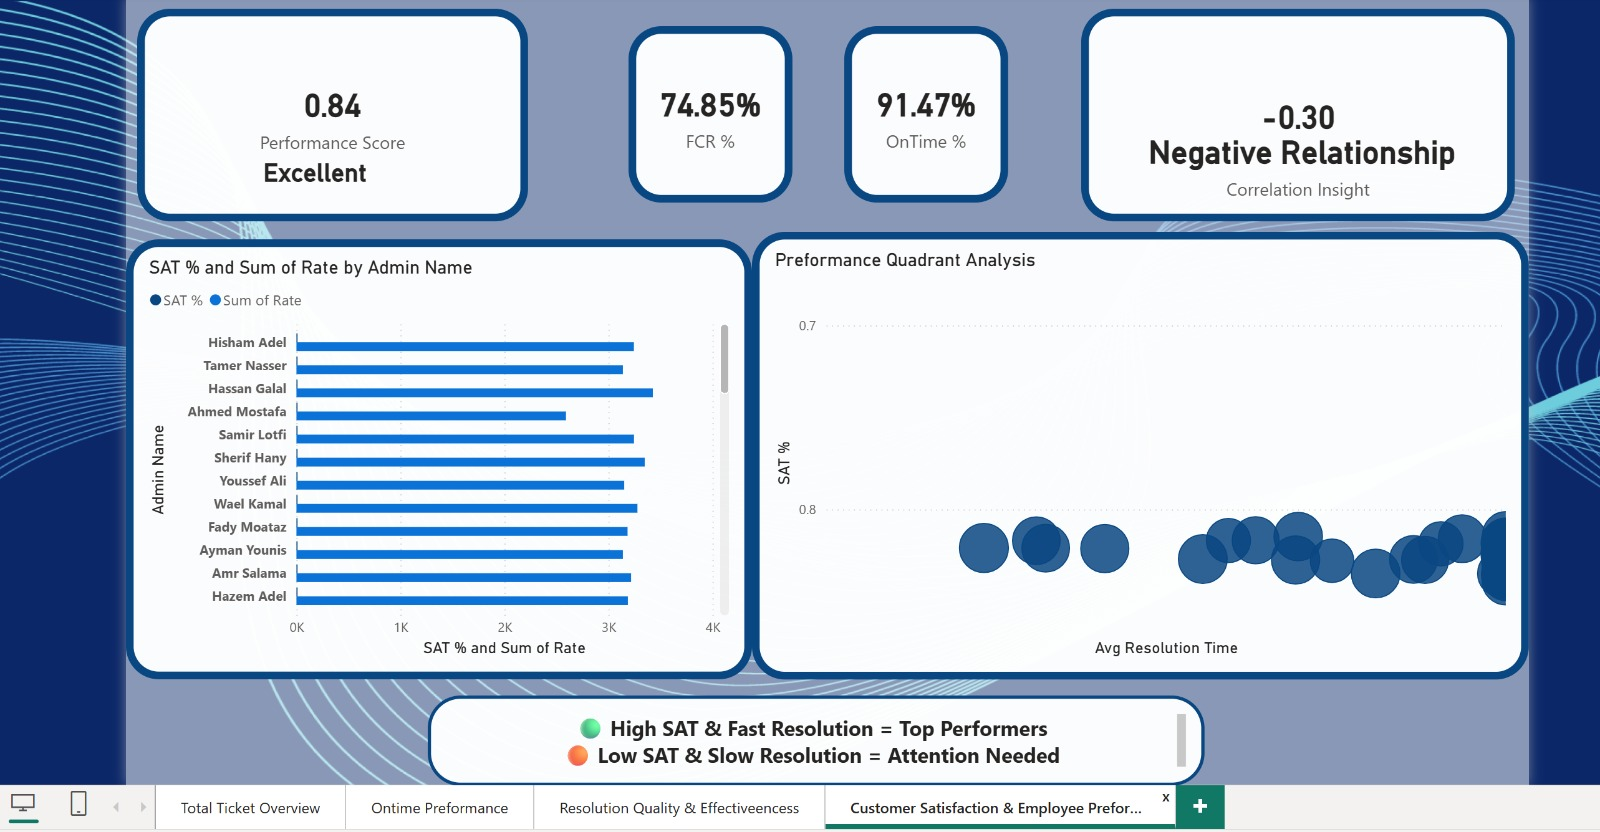

What the dashboard file says about the page in this screenshot:
{"tool":"powerbi","page":{"name":"Customer Satisfaction & Employee Preformance","canvas":[1280,720],"ordinal":3},"visuals":[{"type":"scatterChart","title":"Preformance Quadrant Analysis ","fields":{"Category":["Tickets.Admin Name"],"Size":["Tickets.Total Tickets"],"X":["Date Table.Avg Resolution Time"],"Y":["Tickets.SAT %"]},"box":[571,214.5,708.7,408.7],"z":0},{"type":"clusteredBarChart","fields":{"Category":["Tickets.Admin Name"],"Y":["Tickets.SAT %","Sum(Tickets.Rate)"]},"box":[0,221.7,571,401.4],"z":1000},{"type":"card","fields":{"Values":["Date Table.Correlation"]},"box":[871,11.6,395.7,194.2],"z":2000},{"type":"card","fields":{"Values":["Date Table.Performance Score"]},"box":[10.1,11.6,356.5,194.2],"z":3000},{"type":"card","fields":{"Values":["Tickets.FCR %"]},"box":[458,27.5,149.3,160.9],"z":4000},{"type":"card","fields":{"Values":["Tickets.OnTime %"]},"box":[655.1,27.5,149.3,160.9],"z":5000},{"type":"textbox","box":[275.4,637.7,708.7,82.6],"z":6000},{"type":"card","fields":{"Values":["Date Table.SAT Status2"]},"box":[10.1,126.1,324.6,68.1],"z":7000},{"type":"card","fields":{"Values":["Date Table.Correlation Insight"]},"box":[871,97.1,395.7,108.7],"z":8000}]}

Visuals, with their boxes in screenshot pixels (x1, y1, x2, y2):
"Preformance Quadrant Analysis " scatterChart: box(749, 224, 1530, 674)
clusteredBarChart - Tickets.Admin Name x Tickets.SAT %: box(121, 232, 749, 673)
card - Date Table.Correlation: box(1080, 0, 1515, 214)
card - Date Table.Performance Score: box(132, 0, 524, 214)
card - Tickets.FCR %: box(625, 18, 789, 195)
card - Tickets.OnTime %: box(842, 18, 1006, 195)
textbox: box(424, 690, 1204, 781)
card - Date Table.SAT Status2: box(132, 126, 489, 201)
card - Date Table.Correlation Insight: box(1080, 94, 1515, 214)
